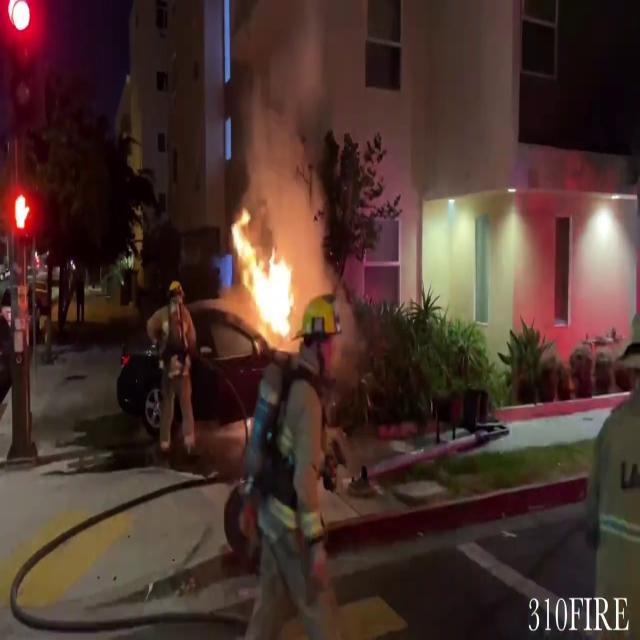Fire: (225, 205, 311, 343)
Smoke: (226, 1, 348, 235)
